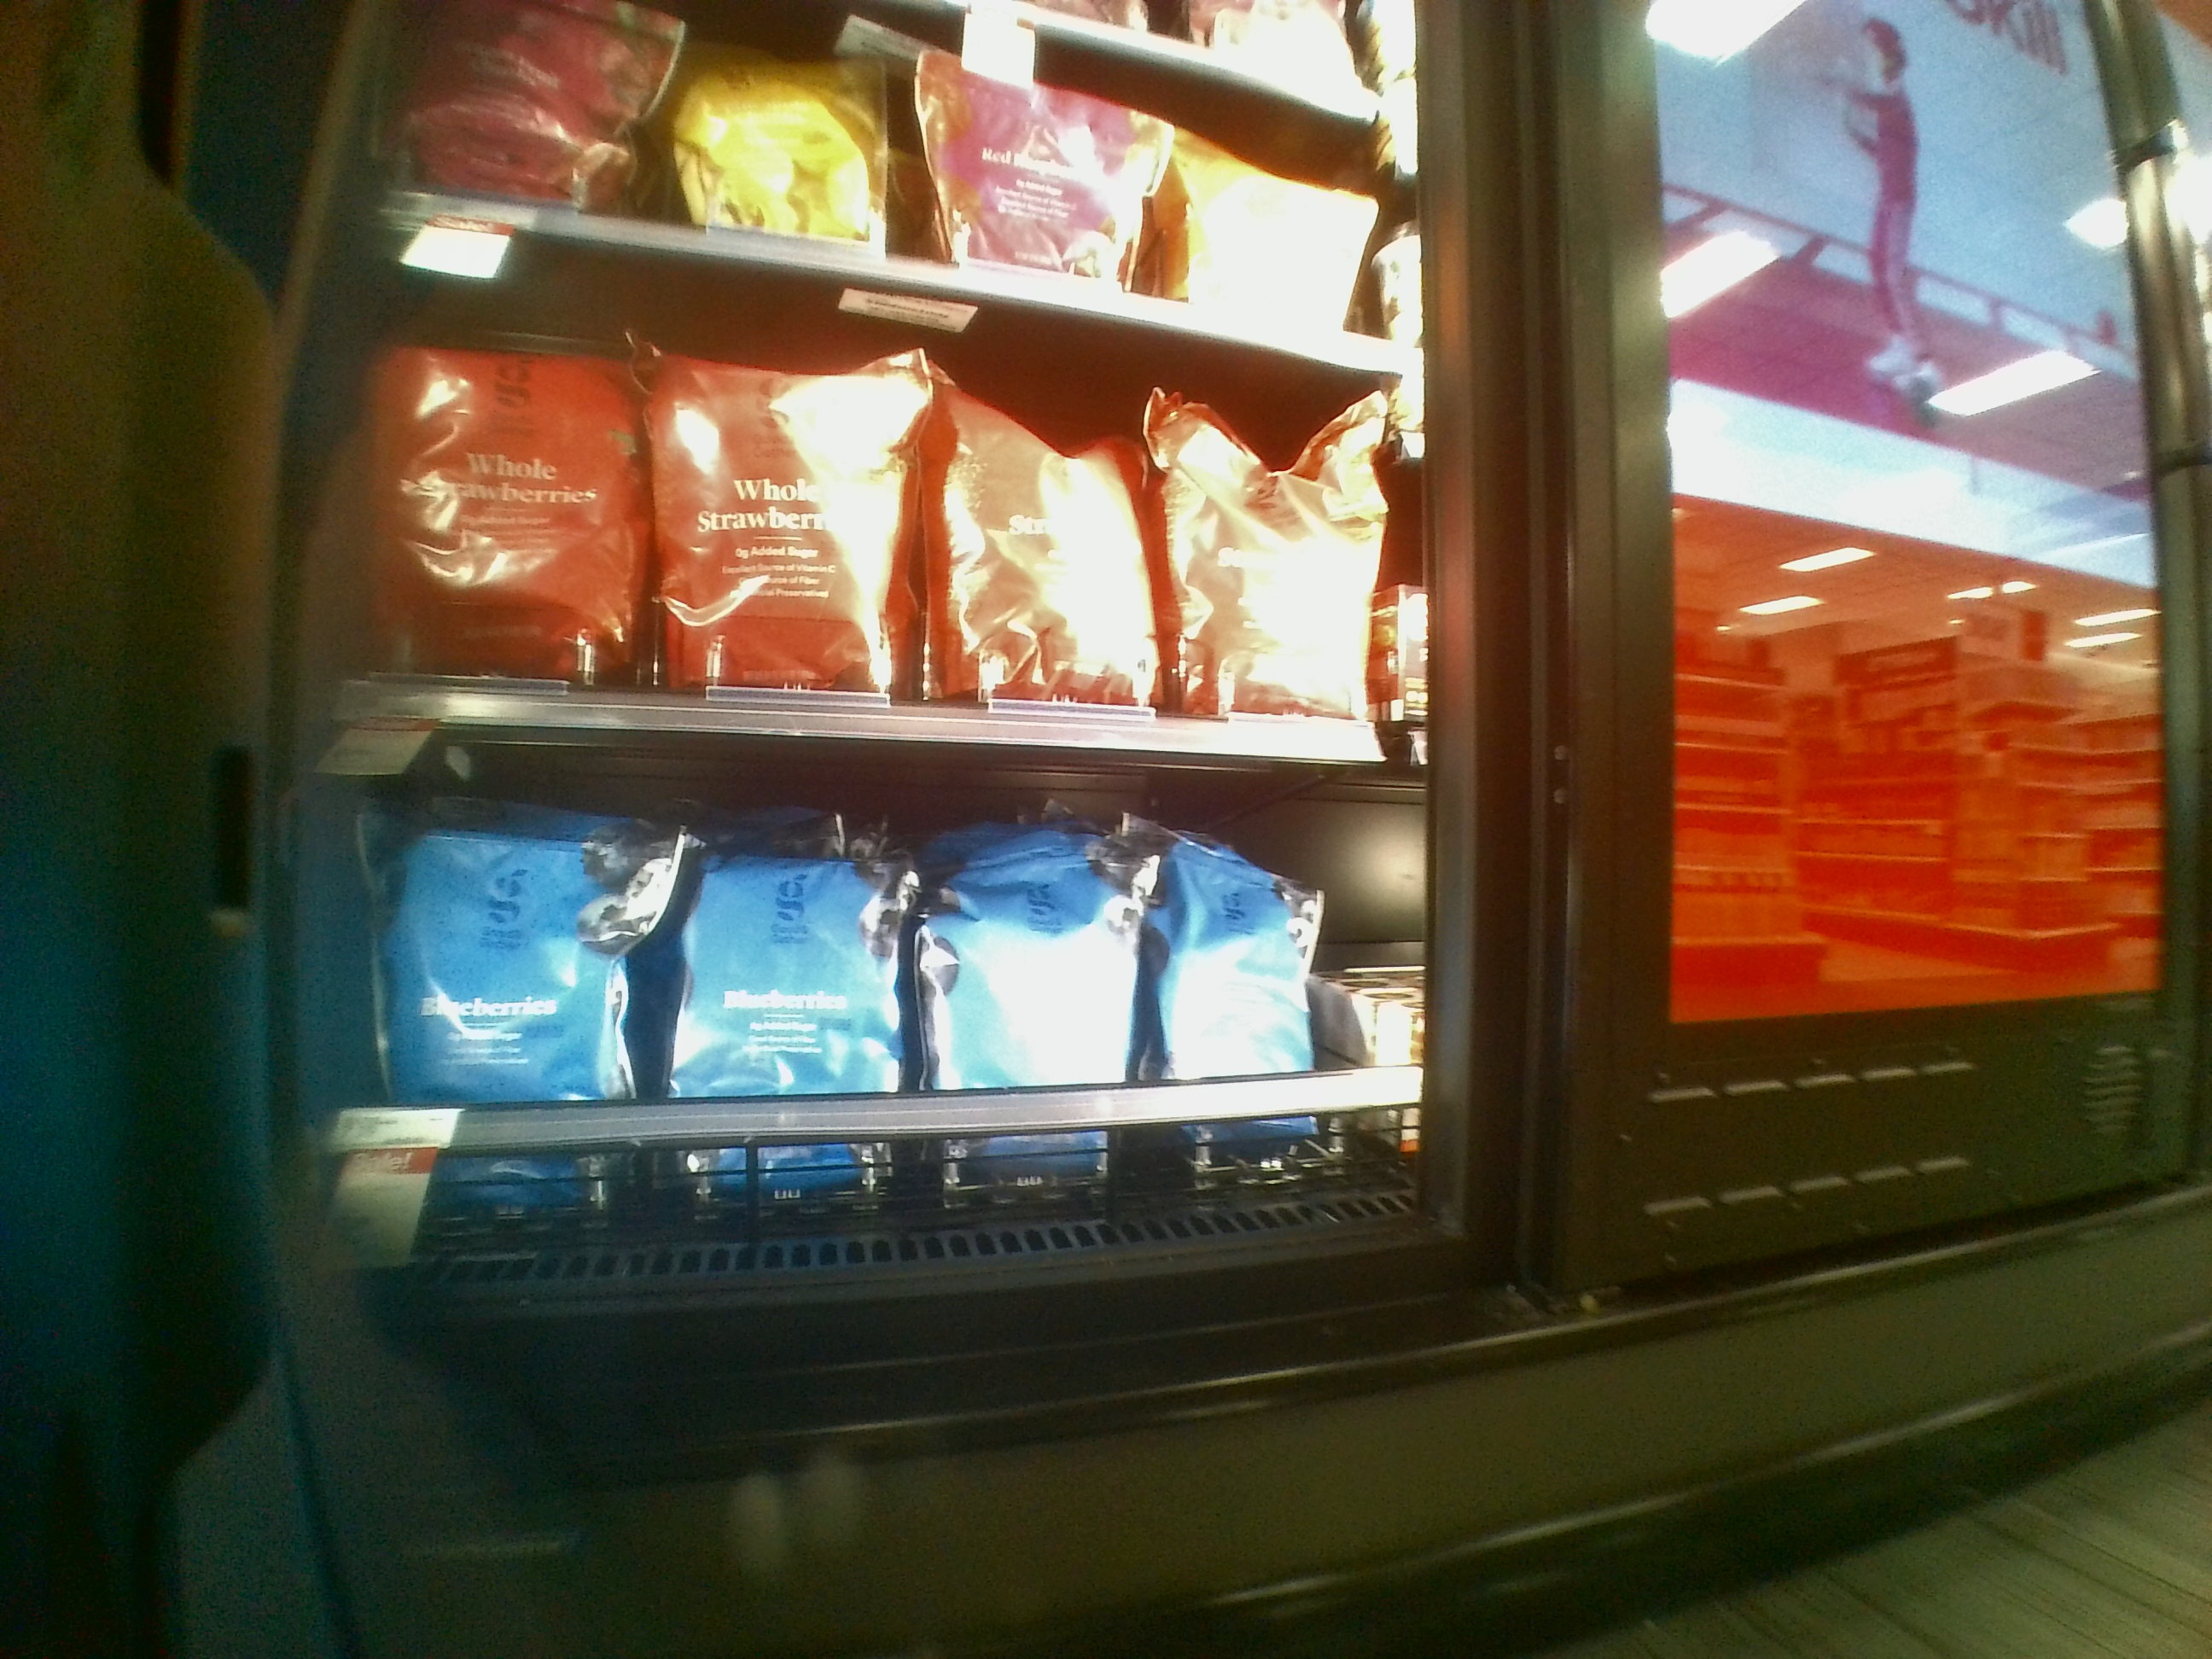shelf: (326, 758, 1433, 1227), (333, 329, 1425, 746)
